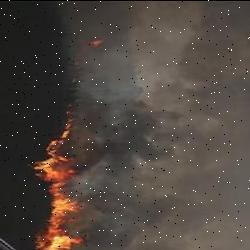fire: (30, 106, 86, 250)
